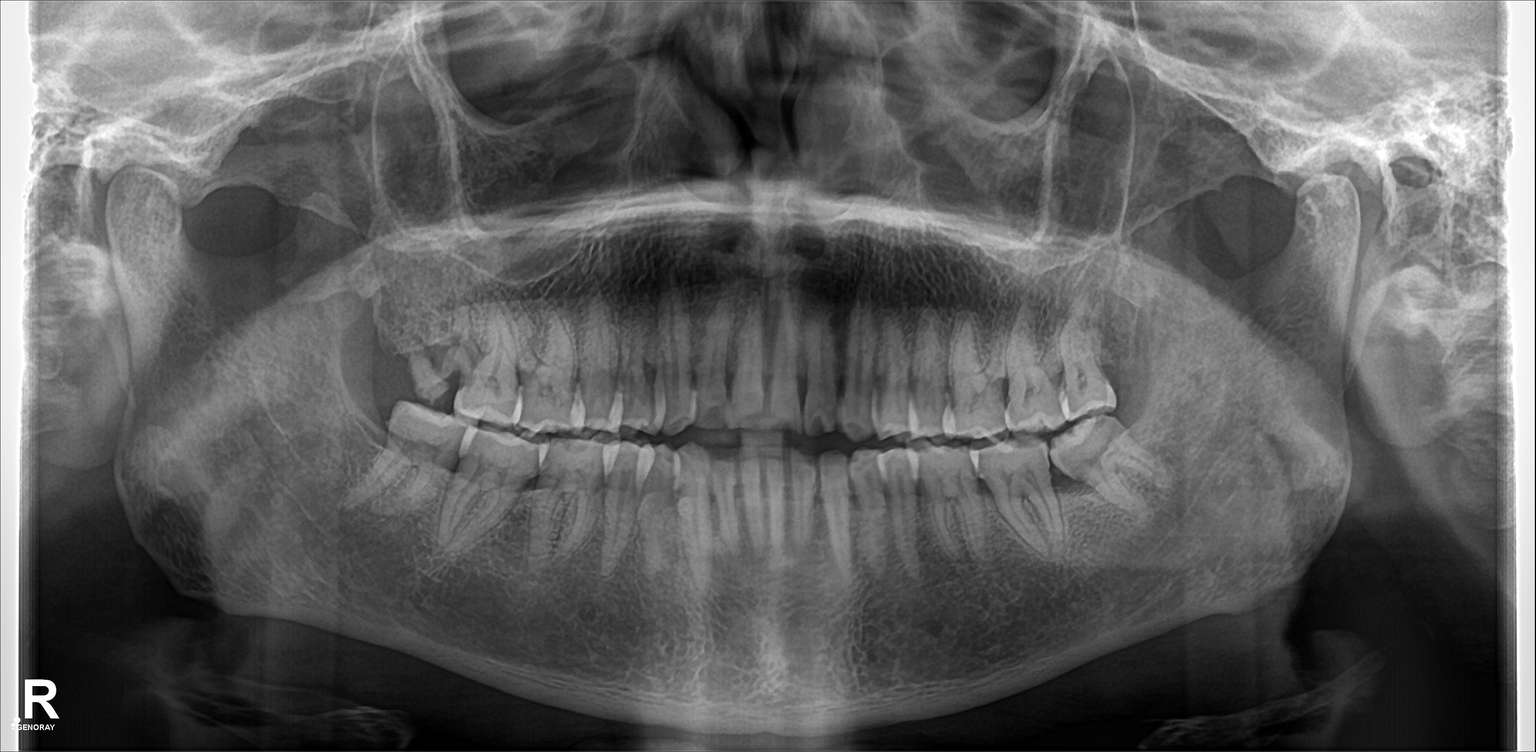Missing Tooth: (361, 305, 401, 393)
Tooth Fracture: (402, 313, 457, 401)
